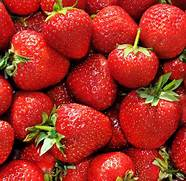Fresa: (44, 100, 115, 165), (116, 85, 184, 150), (10, 28, 71, 92), (41, 4, 94, 61), (102, 41, 161, 92), (5, 87, 55, 144)
